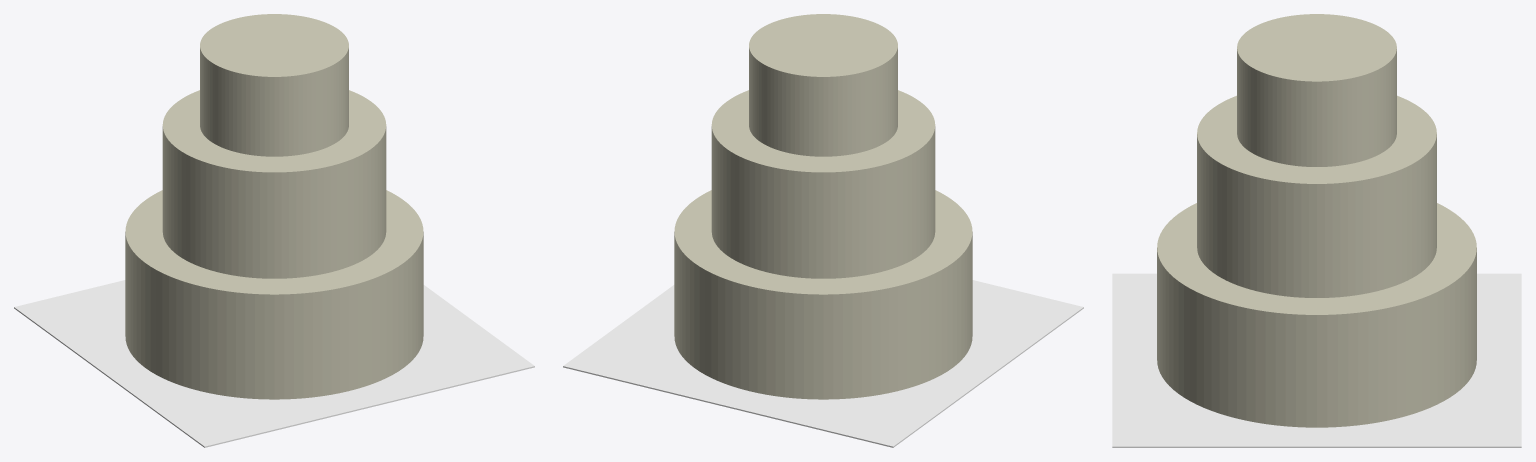
File: cake_tier3_8-6-4_layers2_v26.glb
3 views of the same model, side by side, from view 1: azimuth 30°, elevation 25°; view 2: azimuth 150°, elevation 25°; view 3: azimuth 270°, elevation 25° (orthographic). The views are drawn at different scales.
Parts seen in each view (by area): view 1: Tier0, Tier1, Board, Tier2; view 2: Tier0, Tier1, Board, Tier2; view 3: Tier0, Tier1, Board, Tier2.
Part boxes in pixels (box(x1,y1,x2,y2)): Tier0: box(125, 190, 423, 399); Tier1: box(162, 90, 386, 278); Board: box(14, 280, 534, 447); Tier2: box(200, 14, 348, 156); Tier0: box(674, 190, 972, 399); Tier1: box(711, 90, 935, 278); Board: box(563, 280, 1083, 447); Tier2: box(749, 14, 897, 156); Tier0: box(1157, 203, 1476, 427); Tier1: box(1197, 95, 1436, 297); Board: box(1112, 273, 1521, 447); Tier2: box(1237, 14, 1396, 166).
Bounding box in the file's own units: 0.26 × 0.22 × 0.26.
